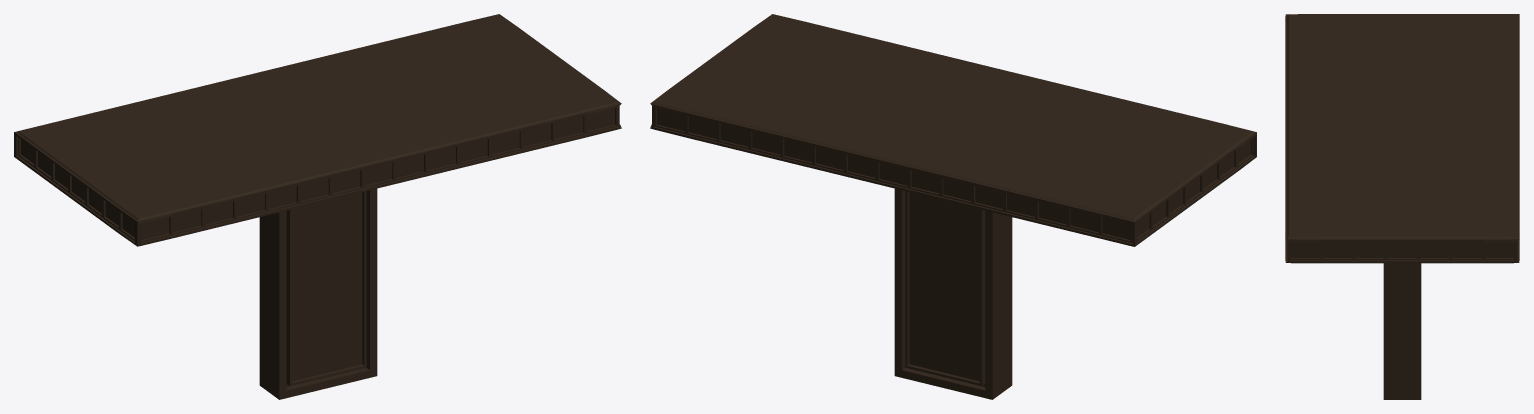
Rendered from Chair Bench.fbx.
3 renders of one model, left to right at view 1: azimuth 30°, elevation 25°; view 2: azimuth 150°, elevation 25°; view 3: azimuth 270°, elevation 25°, orthographic. The views are drawn at different scales.
Visible parts, largest first — view 1: Cube.142; view 2: Cube.142; view 3: Cube.142.
Part boxes in pixels (x1,y1,x2,y2): Cube.142: (14, 14, 621, 399); Cube.142: (650, 14, 1256, 399); Cube.142: (1285, 14, 1519, 399).
Bounding box in the file's own units: 185 × 96.4 × 81.45.
